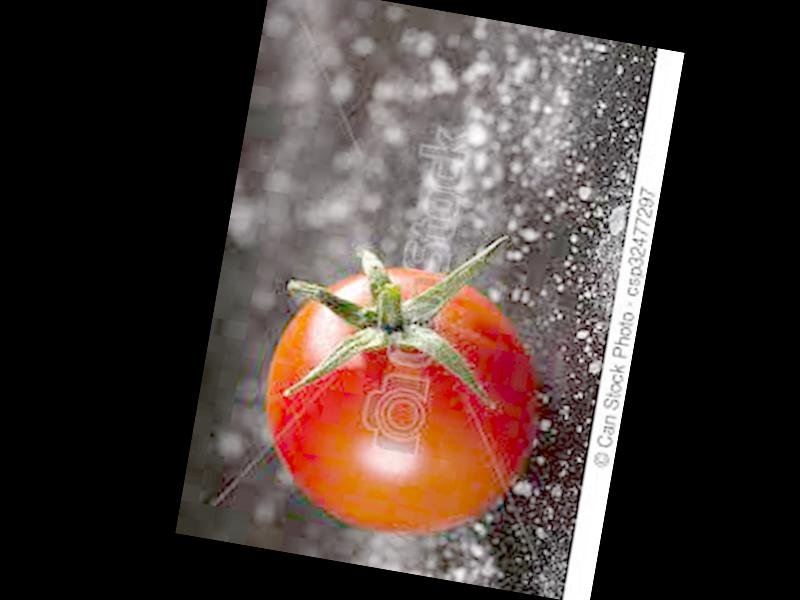Tomato: (245, 247, 555, 554)
